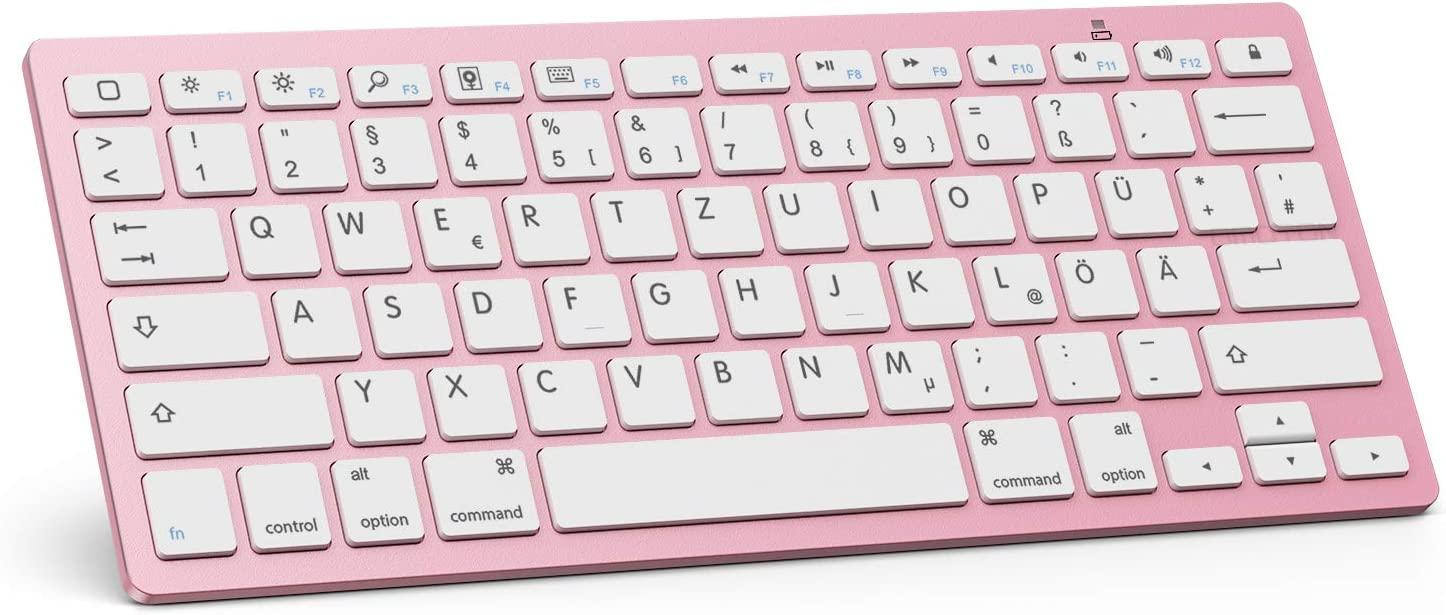0: (949, 90, 1033, 161)
1: (167, 118, 255, 193)
2: (259, 114, 346, 190)
3: (347, 111, 436, 185)
4: (438, 108, 523, 181)
5: (525, 104, 612, 179)
6: (612, 101, 697, 175)
7: (702, 100, 784, 172)
8: (784, 96, 866, 168)
9: (867, 93, 951, 164)
a: (269, 282, 360, 358)
accent: (1111, 83, 1192, 153)
ae: (1134, 240, 1218, 312)
alt-left: (329, 450, 425, 545)
altgr-right: (1067, 405, 1158, 493)
b: (691, 344, 780, 420)
c: (515, 354, 607, 431)
comma: (948, 330, 1035, 405)
d: (451, 273, 541, 349)
del: (1191, 80, 1313, 150)
e: (412, 191, 500, 267)
enter: (1213, 234, 1358, 306)
f: (541, 269, 629, 344)
g: (628, 265, 717, 339)
h: (716, 261, 803, 334)
hash: (1253, 156, 1336, 227)
i: (847, 173, 929, 244)
j: (803, 256, 888, 329)
k: (887, 251, 972, 325)
keyboard: (18, 3, 1440, 613)
l: (972, 248, 1055, 322)
less: (72, 120, 162, 197)
m: (865, 335, 952, 410)
minus: (1114, 322, 1200, 394)
n: (780, 339, 866, 414)
o: (928, 170, 1013, 241)
oe: (1053, 244, 1137, 317)
p: (1011, 166, 1096, 237)
plus: (1173, 159, 1256, 230)
point: (1033, 326, 1118, 400)
q: (227, 197, 319, 274)
r: (501, 187, 588, 262)
s: (361, 277, 451, 354)
shift-left: (120, 370, 336, 454)
shift-lock: (102, 285, 267, 368)
shift-right: (1199, 312, 1385, 390)
space: (533, 420, 965, 527)
ss: (1030, 87, 1113, 157)
strg-left: (235, 456, 333, 552)
t: (590, 184, 675, 257)
tab: (86, 202, 226, 282)
u: (761, 176, 845, 249)
ue: (1094, 162, 1176, 234)
v: (604, 349, 694, 426)
w: (321, 195, 408, 270)
x: (425, 360, 515, 437)
y: (335, 365, 425, 442)
z: (675, 180, 762, 254)
